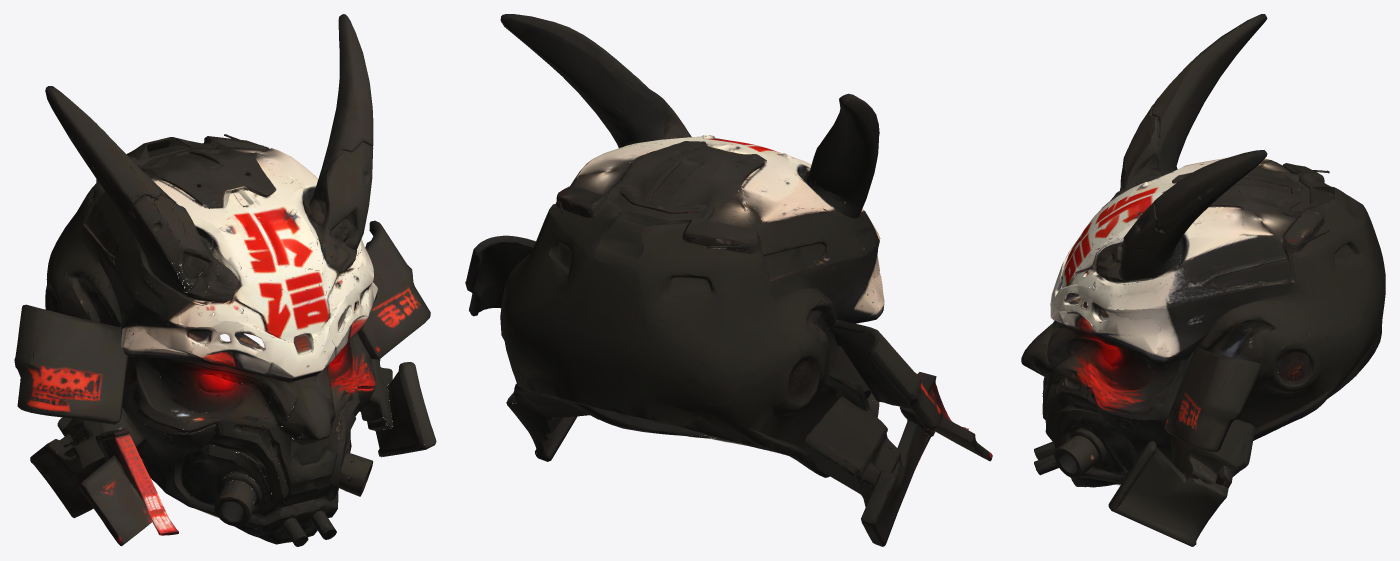
File: helmet.glb
3 views of the same model, side by side, from view 1: azimuth 30°, elevation 25°; view 2: azimuth 150°, elevation 25°; view 3: azimuth 270°, elevation 25° (orthographic). The views are drawn at different scales.
Visible parts, largest first — view 1: node_0; view 2: node_0; view 3: node_0.
Boxes of the visible parts, x1,y1,x2,y2 form: node_0: (14,14,436,546); node_0: (465,14,992,546); node_0: (1021,14,1385,546).
Size of the model in its own units: 1.02 by 1 by 0.8329.
Materials: 1 (1 with a texture image).
